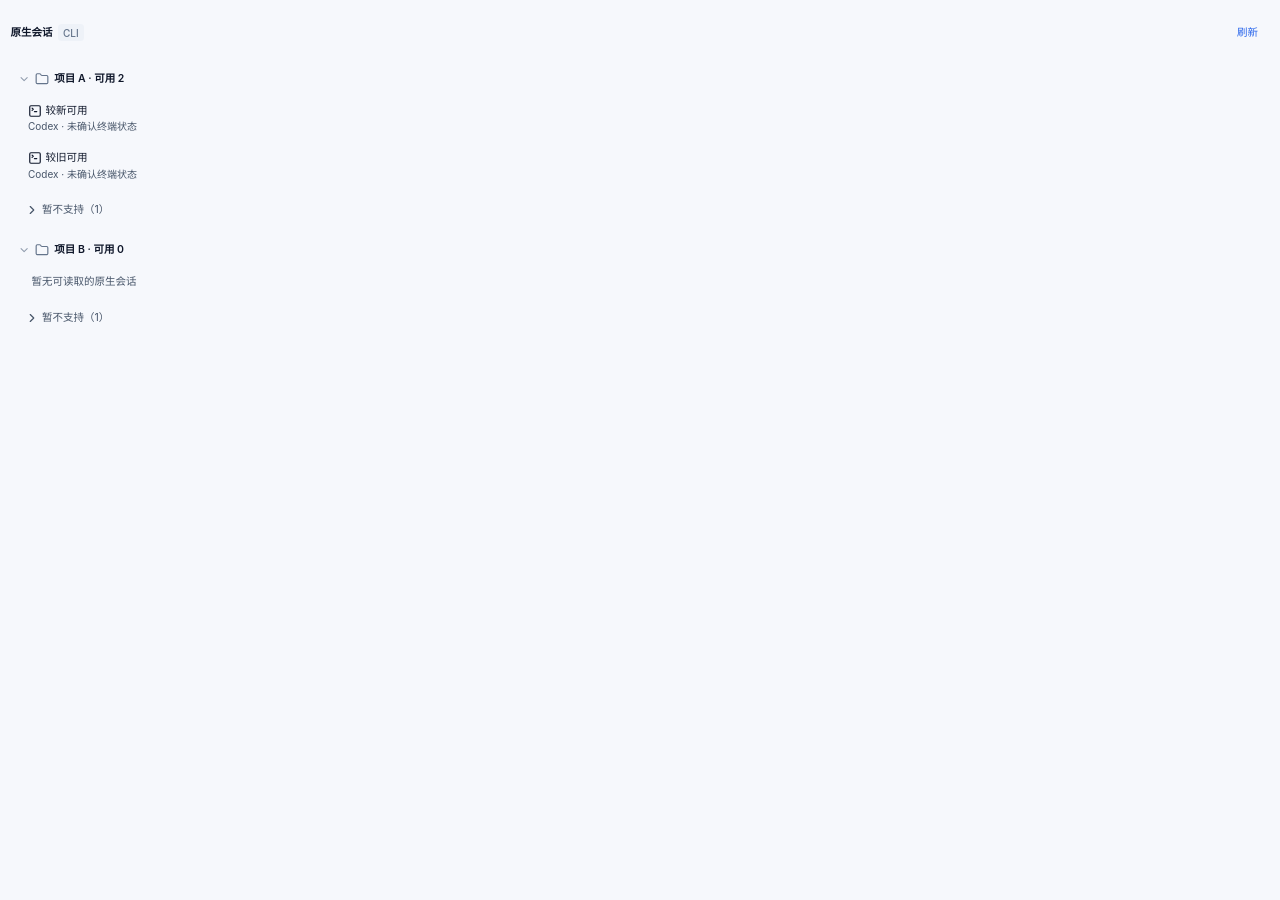
Test case: native format availability remote=false › shows an explanation without read, metadata lookup, import, or conversation navigation
Click the button with test id "native-unavailable-toggle" at [76, 210], box [18,191,1270,229]
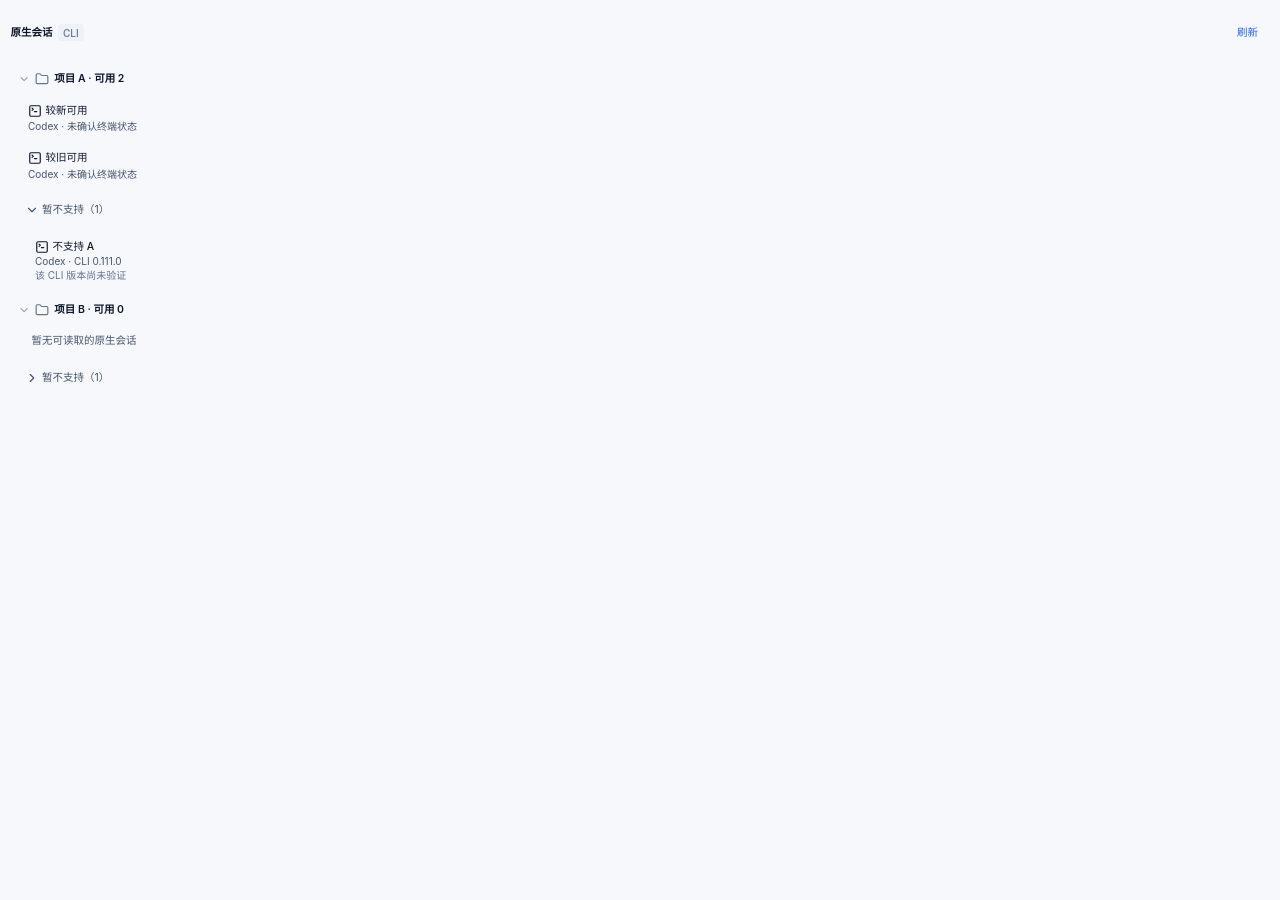
Click the button with test id "native-unavailable" at [73, 246], box [24,233,1270,289]
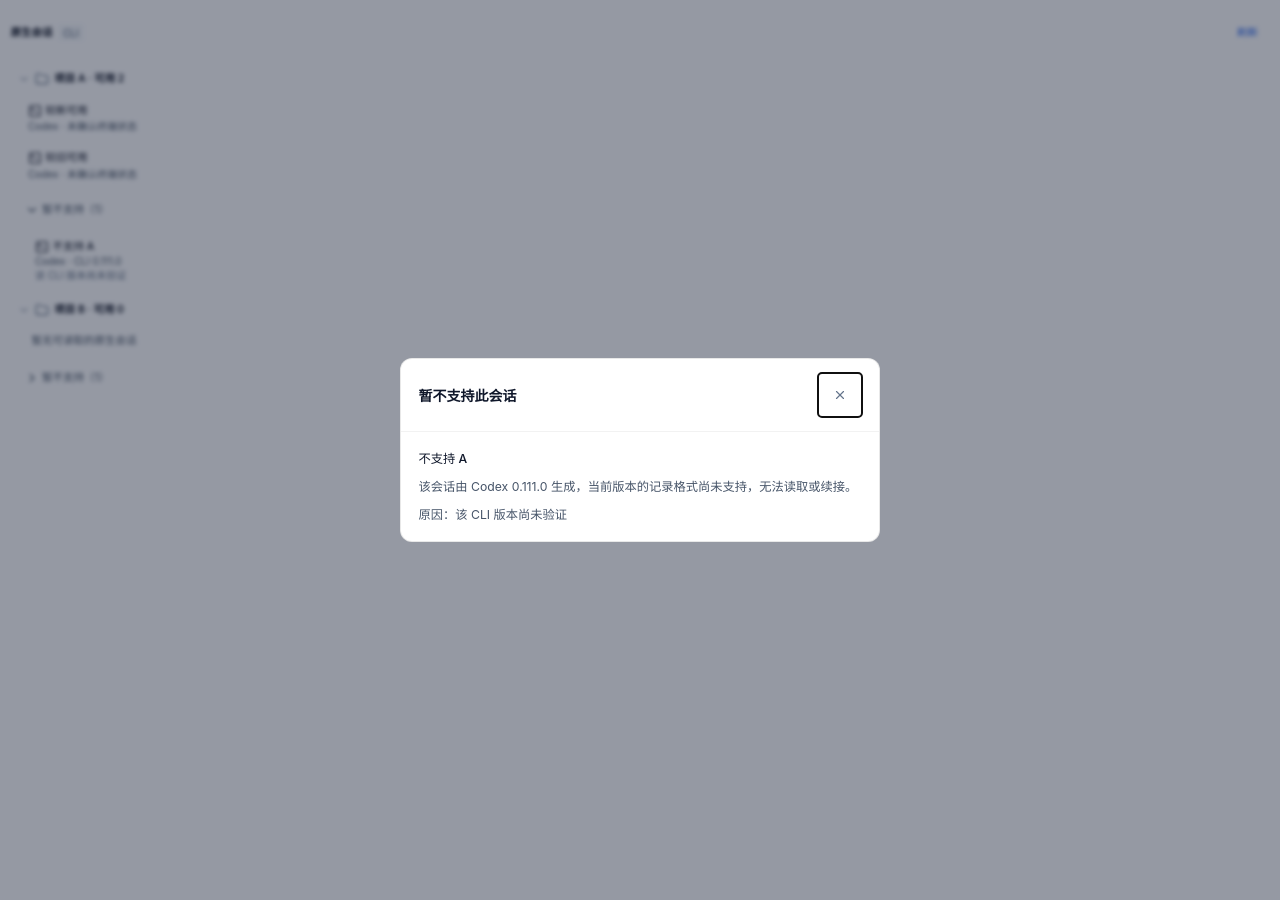
Result: the element with test id "native-unavailable-explanation" shows "该会话由 Codex 0.111.0 生成，当前版本的记录格式尚未支持，无法读取或续接" at [418,479,857,494]
Result: the element with test id "native-unavailable-explanation" shows "原因：该 CLI 版本尚未验证" at [418,507,567,522]
